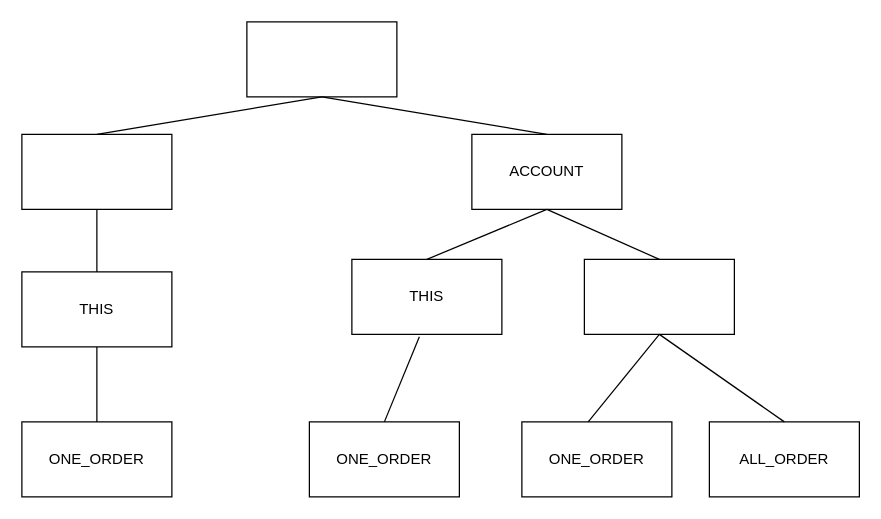
The diagram is 881 pixels wide and 519 high, and some of its shapes have lost their labels. Each missing label, with the centre of its shape:
"coupon fields" goes at (x=321, y=59).
"EVERYONE" goes at (x=96, y=171).
"NEXT" goes at (x=658, y=296).
